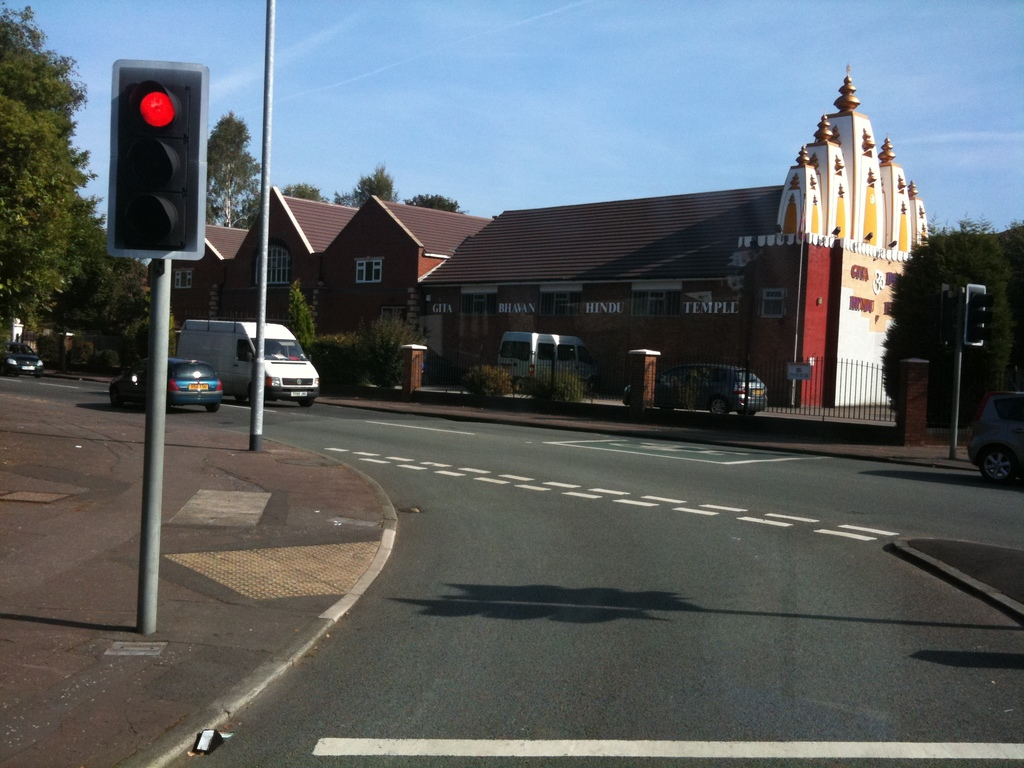red_light: (120, 68, 195, 250)
